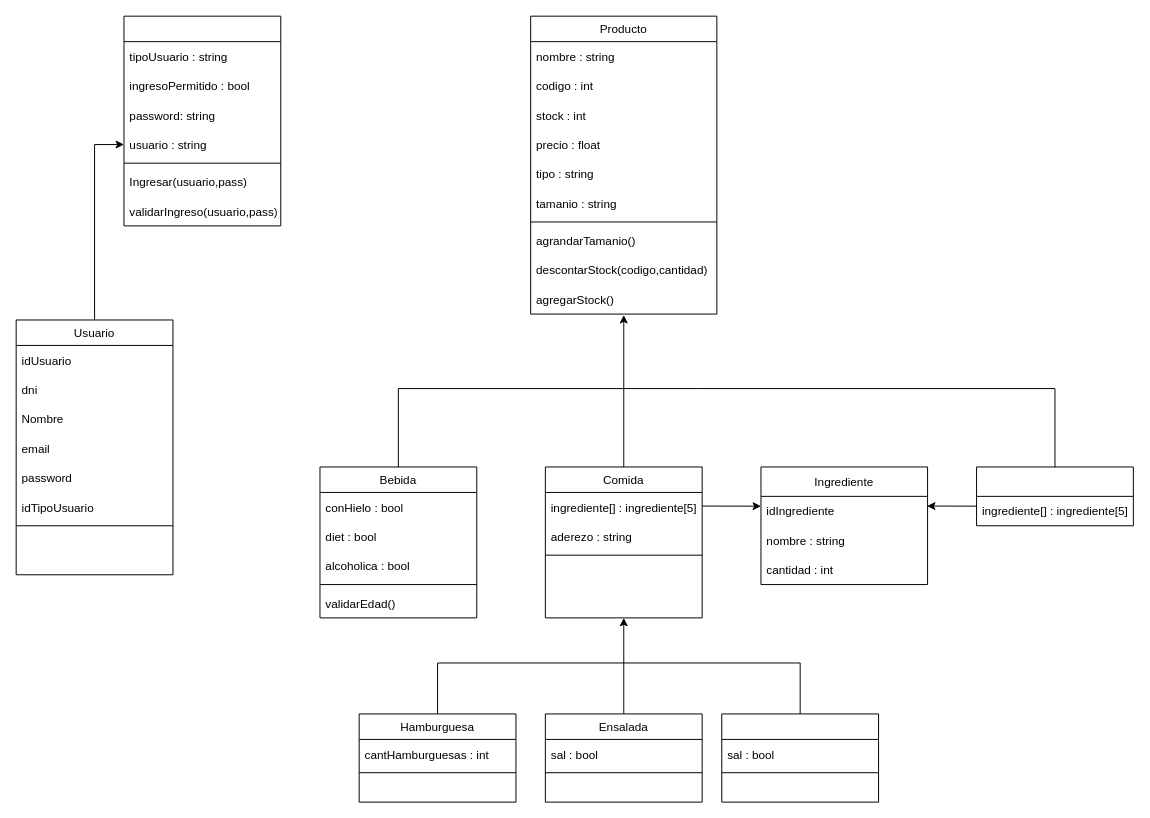
This 1150x818 diagram has some shape labels left out. The box of each missing label's shape, as (x1, y1, x2, y2) in pixels:
Guarnicion: (721, 713, 879, 802)
Login: (123, 15, 281, 226)
Postre: (976, 466, 1133, 526)
